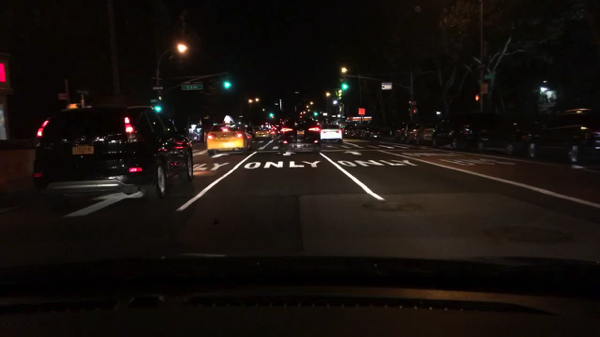car: (30, 104, 197, 214), (516, 107, 599, 165), (427, 110, 528, 155), (204, 115, 254, 156), (278, 115, 323, 156), (403, 121, 439, 147), (390, 120, 420, 147), (317, 123, 345, 147), (190, 122, 218, 144), (355, 125, 384, 143), (254, 125, 276, 143), (340, 123, 360, 142), (244, 125, 259, 141), (270, 125, 281, 134), (257, 124, 270, 131)
traffic light: (1, 49, 16, 98), (222, 81, 232, 92), (66, 103, 79, 111), (154, 105, 163, 115), (340, 82, 348, 93), (412, 108, 419, 117), (473, 95, 479, 105), (312, 111, 319, 119), (268, 113, 275, 120)
traffic sign: (74, 88, 91, 97), (479, 81, 489, 96), (380, 81, 393, 92), (183, 84, 204, 90), (57, 92, 68, 103), (151, 84, 164, 93), (484, 73, 494, 83), (357, 107, 367, 116), (407, 101, 418, 107), (149, 97, 158, 104), (322, 111, 330, 116), (336, 113, 342, 119), (330, 114, 337, 119)
